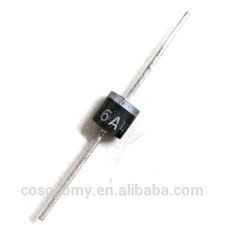diode: (65, 75, 167, 158)
